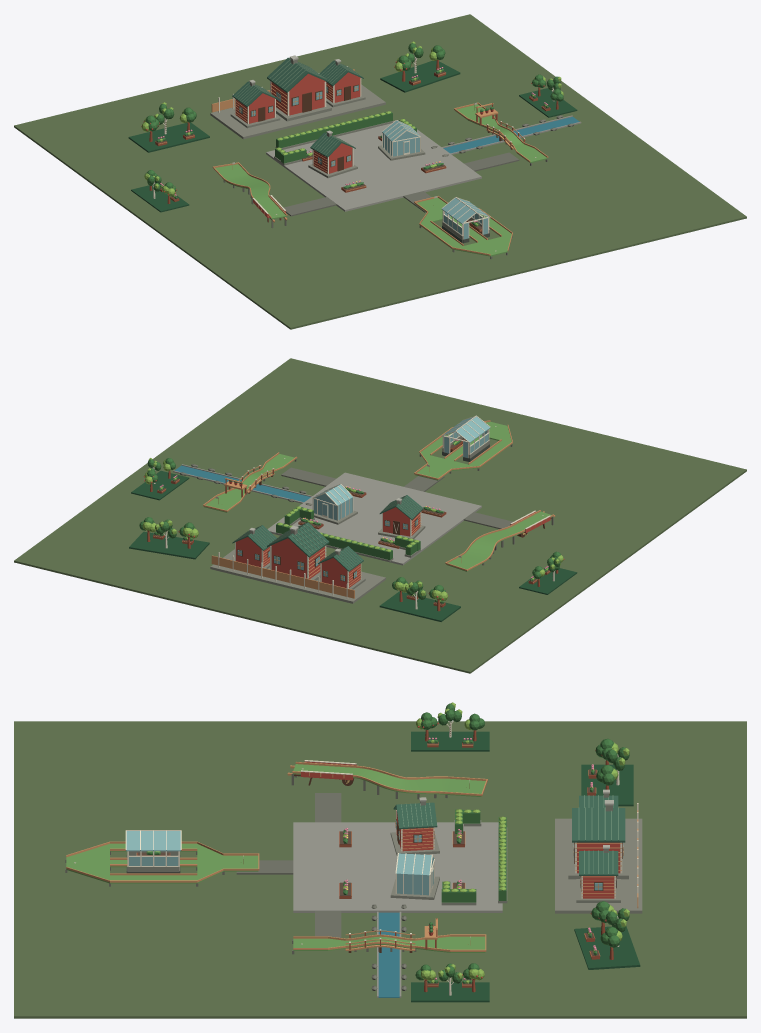
The model's file is district.glb.
The picture shows the model from 3 angles, top to bottom: view 1: azimuth 30°, elevation 25°; view 2: azimuth 150°, elevation 25°; view 3: azimuth 270°, elevation 25°; orthographic projection. The views are drawn at different scales.
Visible parts, largest first — view 1: Backyard_District_Dressing, DistrictScenery_2__Backyard_NeighborhoodBackdrop_Standard, DistrictScenery_3__Backyard_GardenGrove_Standard, DistrictScenery_4__Backyard_GardenGrove_Standard, GreenhouseShortcut__Backyard_GreenhouseShortcut_FloorCollisi, DistrictScenery_0__Backyard_Shed_Standard, DistrictScenery_6__Backyard_GardenGrove_Standard, DistrictScenery_1__Backyard_Greenhouse_Standard, WheelbarrowRun__Backyard_WheelbarrowRun_Surface, DistrictScenery_5__Backyard_GardenGrove_Standard, GardenStreamCrossing__Backyard_GardenStreamCrossing_FloorCol, GreenhouseShortcut_0__Backyard_GreenhousePassage_Standard (+2 smaller); view 2: Backyard_District_Dressing, DistrictScenery_2__Backyard_NeighborhoodBackdrop_Standard, DistrictScenery_4__Backyard_GardenGrove_Standard, DistrictScenery_3__Backyard_GardenGrove_Standard, GreenhouseShortcut__Backyard_GreenhouseShortcut_FloorCollisi, DistrictScenery_0__Backyard_Shed_Standard, WheelbarrowRun__Backyard_WheelbarrowRun_Surface, DistrictScenery_1__Backyard_Greenhouse_Standard, DistrictScenery_6__Backyard_GardenGrove_Standard, DistrictScenery_5__Backyard_GardenGrove_Standard, GardenStreamCrossing__Backyard_GardenStreamCrossing_FloorCol, GreenhouseShortcut_0__Backyard_GreenhousePassage_Standard (+2 smaller); view 3: Backyard_District_Dressing, DistrictScenery_2__Backyard_NeighborhoodBackdrop_Standard, GreenhouseShortcut__Backyard_GreenhouseShortcut_FloorCollisi, DistrictScenery_4__Backyard_GardenGrove_Standard, DistrictScenery_5__Backyard_GardenGrove_Standard, DistrictScenery_6__Backyard_GardenGrove_Standard, DistrictScenery_3__Backyard_GardenGrove_Standard, DistrictScenery_0__Backyard_Shed_Standard, WheelbarrowRun__Backyard_WheelbarrowRun_Surface, DistrictScenery_1__Backyard_Greenhouse_Standard, GardenStreamCrossing__Backyard_GardenStreamCrossing_FloorCol, GreenhouseShortcut__Backyard_GreenhouseShortcut_RailCollisio (+7 smaller).
Boxes of the visible parts, x1,y1,x2,y2 form: Backyard_District_Dressing: (14,14,746,329); DistrictScenery_2__Backyard_NeighborhoodBackdrop_Standard: (210,55,385,139); DistrictScenery_3__Backyard_GardenGrove_Standard: (128,102,209,152); DistrictScenery_4__Backyard_GardenGrove_Standard: (380,41,460,92); GreenhouseShortcut__Backyard_GreenhouseShortcut_FloorCollisi: (415,197,511,256); DistrictScenery_0__Backyard_Shed_Standard: (308,130,357,178); DistrictScenery_6__Backyard_GardenGrove_Standard: (519,74,577,117); DistrictScenery_1__Backyard_Greenhouse_Standard: (378,120,425,160); WheelbarrowRun__Backyard_WheelbarrowRun_Surface: (214,164,286,219); DistrictScenery_5__Backyard_GardenGrove_Standard: (131,170,189,212); GardenStreamCrossing__Backyard_GardenStreamCrossing_FloorCol: (455,104,547,162); GreenhouseShortcut_0__Backyard_GreenhousePassage_Standard: (442,210,489,239); Backyard_District_Dressing: (14,358,746,673); DistrictScenery_2__Backyard_NeighborhoodBackdrop_Standard: (210,522,385,603); DistrictScenery_4__Backyard_GardenGrove_Standard: (129,517,209,559); DistrictScenery_3__Backyard_GardenGrove_Standard: (379,577,460,621); GreenhouseShortcut__Backyard_GreenhouseShortcut_FloorCollisi: (415,421,511,480); DistrictScenery_0__Backyard_Shed_Standard: (378,495,425,539); WheelbarrowRun__Backyard_WheelbarrowRun_Surface: (446,511,552,571); DistrictScenery_1__Backyard_Greenhouse_Standard: (312,484,357,524); DistrictScenery_6__Backyard_GardenGrove_Standard: (131,458,189,500); DistrictScenery_5__Backyard_GardenGrove_Standard: (519,551,577,594); GardenStreamCrossing__Backyard_GardenStreamCrossing_FloorCol: (204,454,295,512); GreenhouseShortcut_0__Backyard_GreenhousePassage_Standard: (442,429,489,458); Backyard_District_Dressing: (14,721,746,1018); DistrictScenery_2__Backyard_NeighborhoodBackdrop_Standard: (555,789,642,913); GreenhouseShortcut__Backyard_GreenhouseShortcut_FloorCollisi: (66,843,258,883); DistrictScenery_4__Backyard_GardenGrove_Standard: (574,901,640,969); DistrictScenery_5__Backyard_GardenGrove_Standard: (411,702,489,751); DistrictScenery_6__Backyard_GardenGrove_Standard: (411,963,489,1002); DistrictScenery_3__Backyard_GardenGrove_Standard: (581,738,633,806); DistrictScenery_0__Backyard_Shed_Standard: (390,797,439,855); WheelbarrowRun__Backyard_WheelbarrowRun_Surface: (292,764,485,796); DistrictScenery_1__Backyard_Greenhouse_Standard: (390,853,439,899); GardenStreamCrossing__Backyard_GardenStreamCrossing_FloorCol: (293,936,485,952); GreenhouseShortcut__Backyard_GreenhouseShortcut_RailCollisio: (66,841,259,882).
Size of what is drawn, in the model's own units: 80 by 8.77 by 84.
